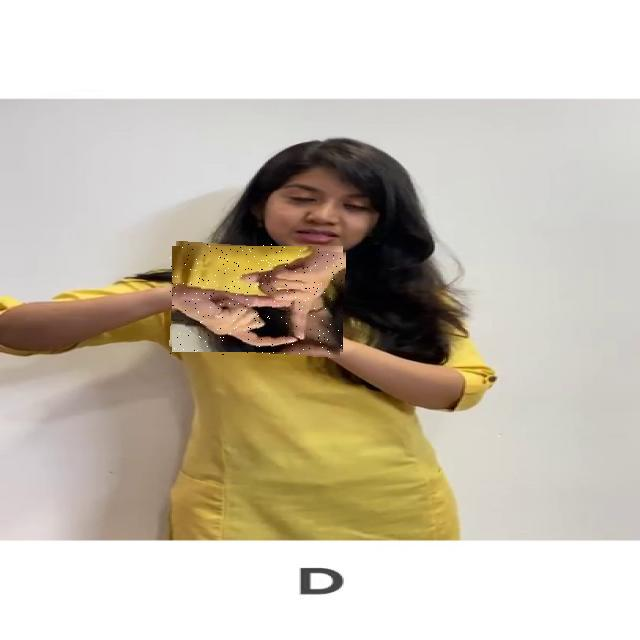D: (170, 244, 344, 355)
